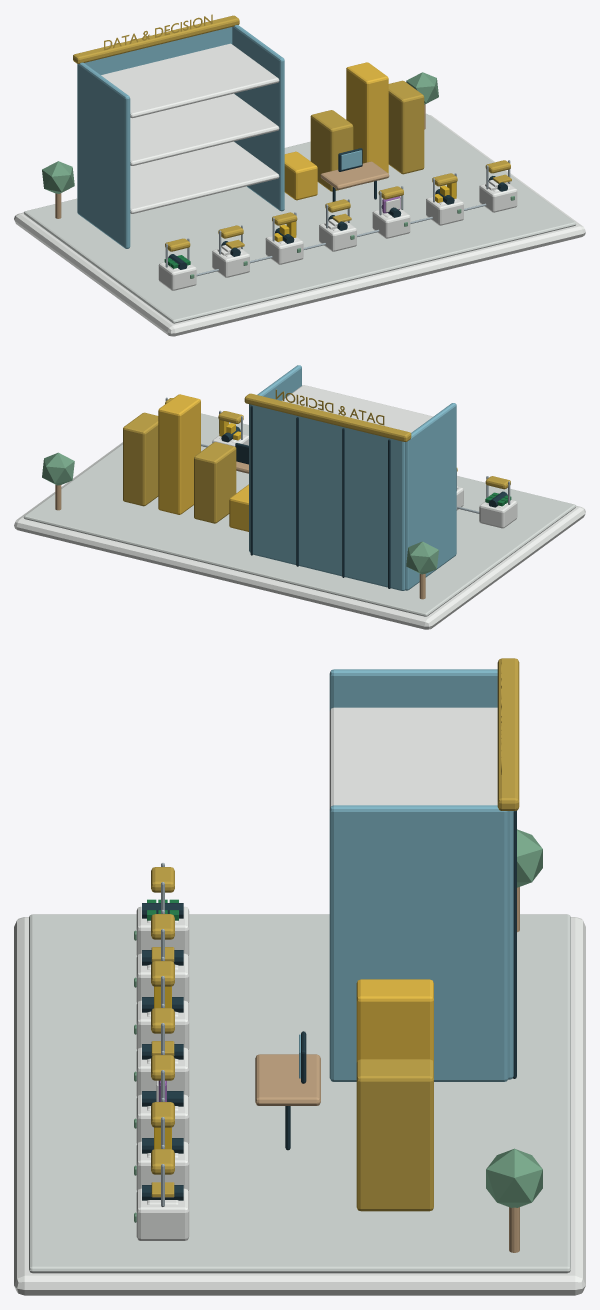
File: powerbi.glb
3 views of the same model, one above another, from view 1: azimuth 30°, elevation 25°; view 2: azimuth 150°, elevation 25°; view 3: azimuth 270°, elevation 25° (orthographic). The views are drawn at different scales.
Visible parts, largest first — view 1: Activity ground, Project island, DATA & DECISION side, Office floor.002, Office floor, Office floor.001, DATA & DECISION side.001, Dashboard metric.002, Dashboard metric.003, DATA & DECISION back, Dashboard metric.001, DATA & DECISION fascia (+12 smaller); view 2: Activity ground, DATA & DECISION back, Project island, DATA & DECISION side, Dashboard metric.002, Dashboard metric.003, Dashboard metric.001, Office floor.002, DATA & DECISION fascia, DATA & DECISION side.001, Icosphere, Icosphere.001 (+7 smaller); view 3: Activity ground, DATA & DECISION side.001, Project island, Office floor.002, Dashboard metric.003, DATA & DECISION side, Dashboard metric.002, DATA & DECISION fascia, Office desk, Icosphere.001, Machine pedestal.006, DATA & DECISION back (+8 smaller).
Boxes of the visible parts, x1,y1,x2,y2 form: Activity ground: (24, 113, 576, 323); Project island: (14, 114, 585, 336); DATA & DECISION side: (77, 62, 130, 248); Office floor.002: (101, 43, 279, 118); Office floor: (130, 141, 279, 213); Office floor.001: (130, 93, 279, 165); DATA & DECISION side.001: (232, 25, 284, 211); Dashboard metric.002: (346, 62, 388, 182); Dashboard metric.003: (388, 80, 424, 174); DATA & DECISION back: (84, 27, 232, 74); Dashboard metric.001: (310, 110, 353, 191); DATA & DECISION fascia: (73, 15, 239, 63); Activity ground: (23, 413, 576, 616); DATA & DECISION back: (250, 404, 405, 590); Project island: (14, 442, 585, 629); DATA & DECISION side: (405, 403, 456, 590); Dashboard metric.002: (158, 394, 200, 514); Dashboard metric.003: (123, 412, 158, 506); Dashboard metric.001: (194, 442, 236, 523); Office floor.002: (281, 385, 432, 432); DATA & DECISION fascia: (244, 393, 411, 441); DATA & DECISION side.001: (249, 365, 301, 551); Icosphere: (406, 541, 438, 574); Icosphere.001: (42, 452, 74, 485); Activity ground: (29, 914, 570, 1273); DATA & DECISION side.001: (329, 805, 508, 1081); Project island: (14, 917, 585, 1295); Office floor.002: (329, 707, 497, 808); Dashboard metric.003: (356, 1059, 433, 1211); DATA & DECISION side: (329, 669, 497, 710); Dashboard metric.002: (356, 979, 433, 1062); DATA & DECISION fascia: (497, 658, 519, 810); Office desk: (255, 1054, 320, 1105); Icosphere.001: (486, 1148, 542, 1207); Machine pedestal.006: (136, 1188, 189, 1240); DATA & DECISION back: (508, 811, 513, 1079).
Size of the model in its own units: 7.3 by 3.06 by 4.8.
